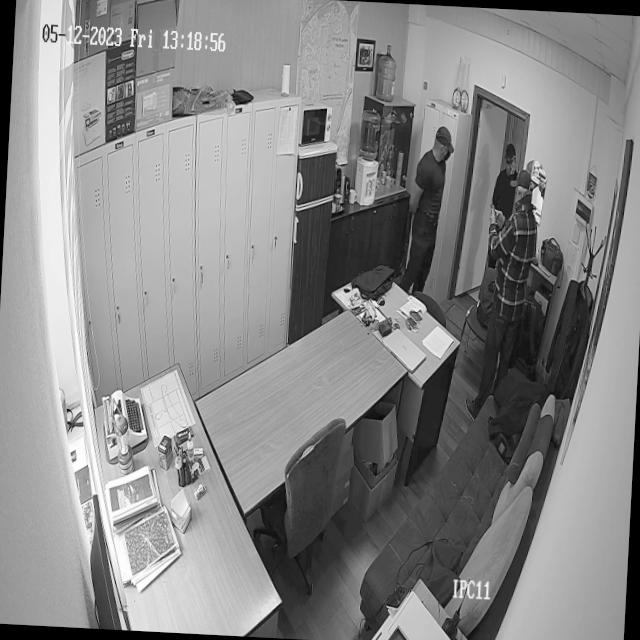person: (463, 163, 542, 430), (403, 124, 457, 292)
